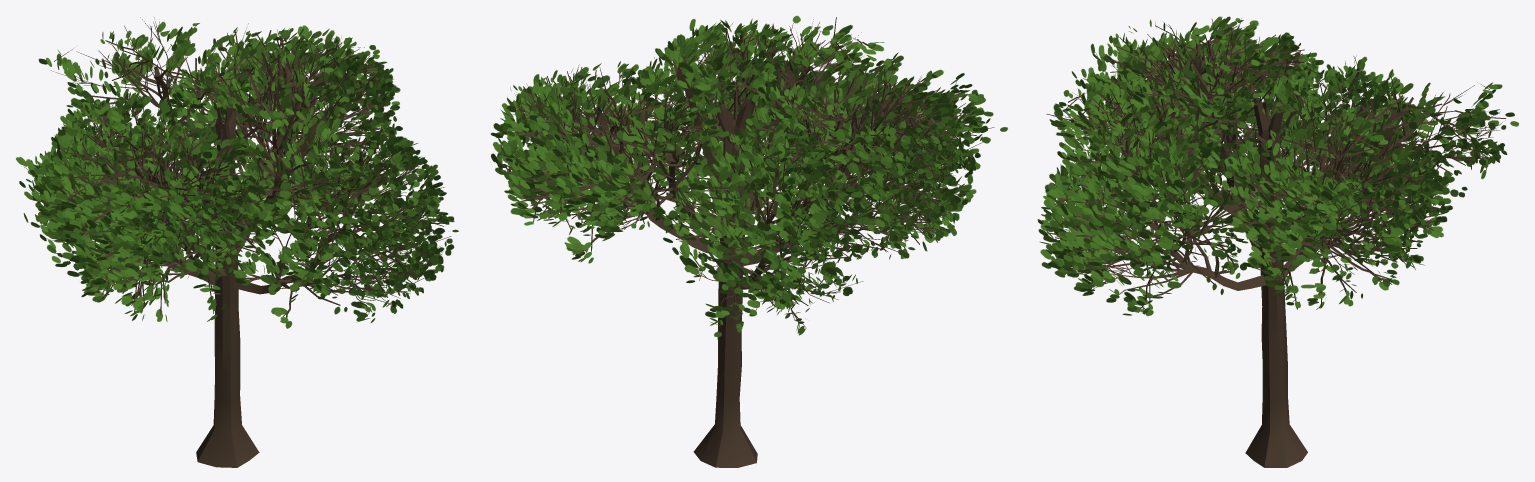
3 views of the same model, side by side, from view 1: azimuth 30°, elevation 25°; view 2: azimuth 150°, elevation 25°; view 3: azimuth 270°, elevation 25° (orthographic). The views are drawn at different scales.
Visible parts, largest first — view 1: oak 01.001_trunk_Mat.001_0.154; view 2: oak 01.001_trunk_Mat.001_0.154; view 3: oak 01.001_trunk_Mat.001_0.154.
Part boxes in pixels (bbox=[...]): oak 01.001_trunk_Mat.001_0.154: bbox=[16, 17, 458, 467]; oak 01.001_trunk_Mat.001_0.154: bbox=[490, 15, 1007, 467]; oak 01.001_trunk_Mat.001_0.154: bbox=[1037, 16, 1518, 467].
Size of the model in its own units: 6.37 by 5.46 by 6.51.
Materials: 2 (1 with a texture image).
